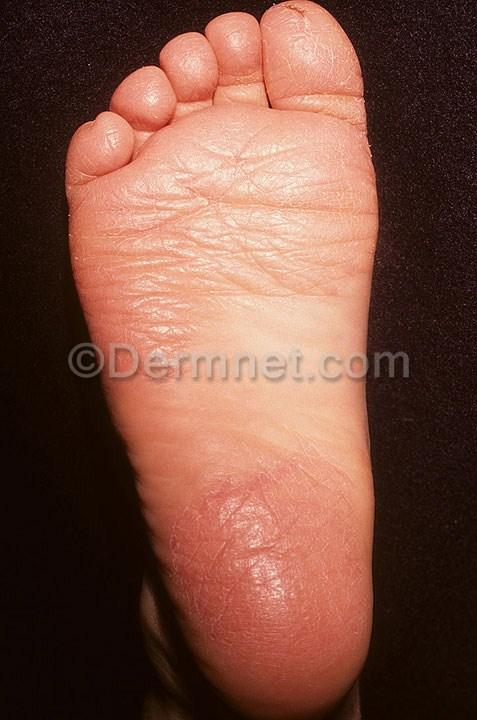Eczema: (263, 456, 342, 545), (91, 217, 213, 274), (76, 274, 167, 347), (310, 193, 369, 297), (194, 543, 274, 617), (296, 52, 365, 132), (90, 329, 176, 393), (206, 238, 270, 322), (158, 281, 218, 370), (281, 615, 346, 695), (202, 621, 289, 680), (252, 65, 314, 146), (192, 474, 262, 540), (138, 499, 197, 575), (261, 215, 310, 302), (242, 153, 308, 217), (312, 126, 369, 199), (264, 547, 327, 613), (105, 168, 193, 215), (325, 555, 373, 637), (147, 252, 199, 325), (343, 450, 376, 559), (279, 10, 344, 62), (189, 105, 256, 155), (58, 195, 99, 275), (221, 667, 283, 718), (191, 160, 248, 215), (163, 578, 202, 648), (176, 52, 220, 103), (135, 84, 178, 128), (285, 686, 337, 720), (222, 22, 263, 65), (151, 132, 196, 170), (77, 136, 119, 170), (116, 89, 139, 121), (143, 68, 171, 94), (87, 121, 116, 144), (347, 634, 365, 670)
